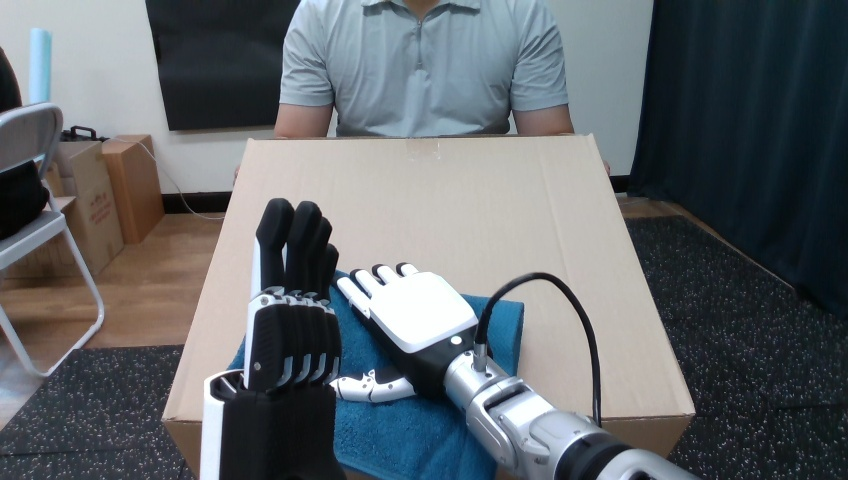left robot hand: (337, 263, 697, 479), (200, 198, 344, 478), (485, 279, 594, 420)
